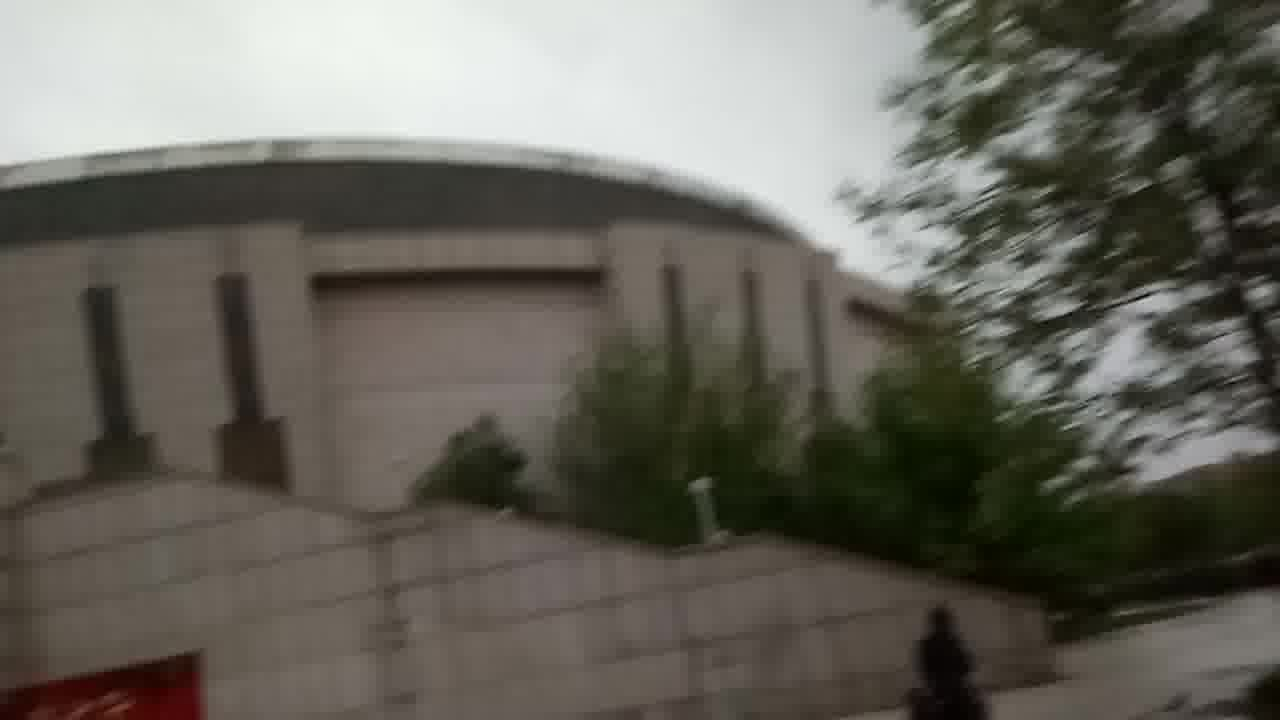zhongtiww: (8, 135, 1087, 718)
